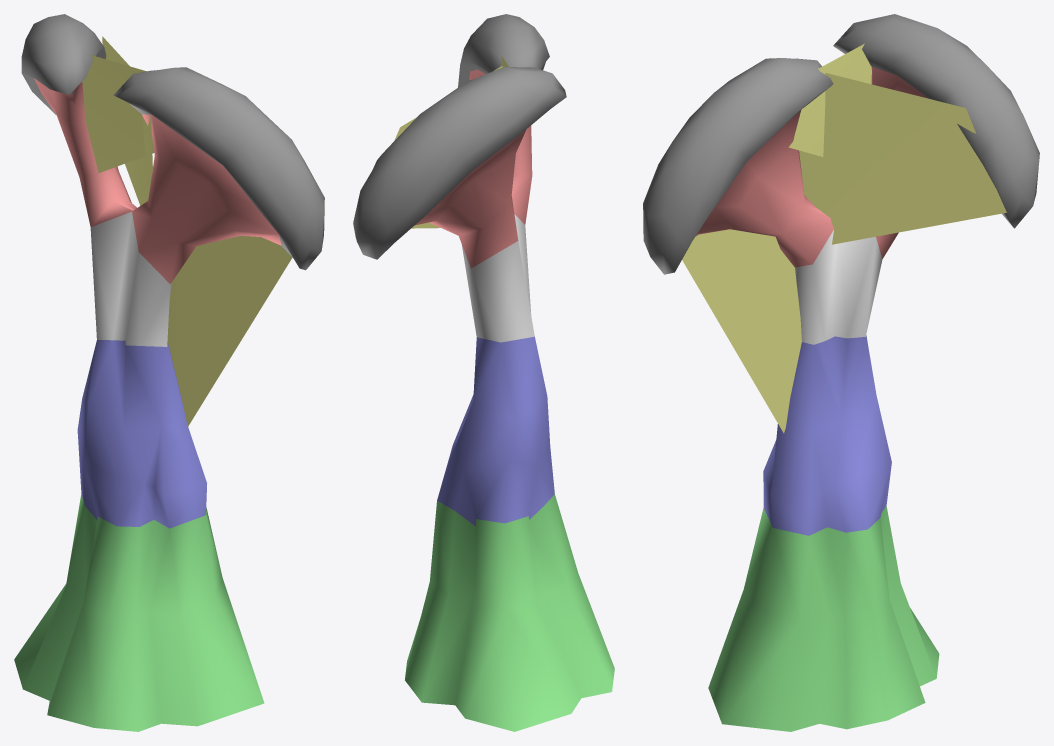
The model's file is Sporemushroom2.gltf.
3 views of the same model, side by side, from view 1: azimuth 30°, elevation 25°; view 2: azimuth 150°, elevation 25°; view 3: azimuth 270°, elevation 25° (orthographic).
Parts seen in each view (by area): view 1: Sporemushroom2; view 2: Sporemushroom2; view 3: Sporemushroom2.
Part boxes in pixels (box(x1,y1,x2,y2)): Sporemushroom2: box(14, 14, 324, 731); Sporemushroom2: box(353, 14, 614, 731); Sporemushroom2: box(643, 14, 1039, 731).
Bounding box in the file's own units: 1.73 × 5.1 × 2.83.
